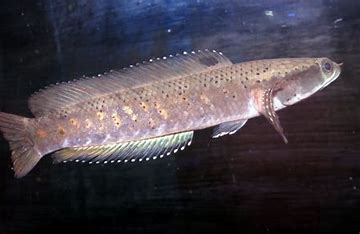Fish: (0, 41, 349, 185)
